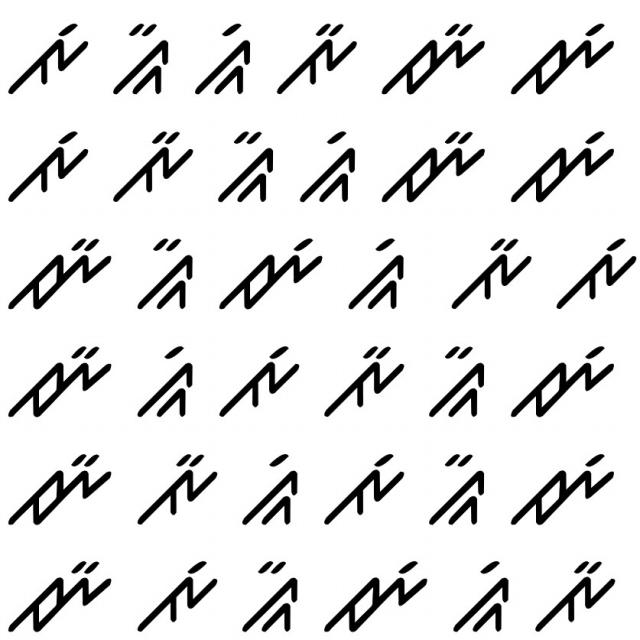an: (529, 554, 623, 638), (439, 226, 534, 308), (274, 17, 364, 100), (112, 122, 198, 206), (131, 450, 218, 533), (318, 340, 407, 418)
ang: (7, 17, 94, 104), (3, 116, 91, 200), (549, 233, 637, 317), (215, 340, 306, 421), (316, 447, 406, 528), (137, 554, 222, 636)
nggan: (135, 225, 198, 319), (236, 556, 305, 639), (421, 340, 488, 424), (213, 124, 277, 209), (112, 18, 176, 99), (429, 451, 489, 533)
nggang: (333, 234, 413, 318), (185, 15, 256, 96), (292, 126, 357, 210), (240, 449, 305, 533), (133, 340, 199, 422), (450, 556, 514, 637)
njan: (0, 334, 112, 424), (3, 225, 112, 316), (378, 14, 490, 101), (379, 122, 486, 208), (5, 552, 114, 634), (7, 451, 113, 533)
njang: (509, 340, 621, 433), (210, 222, 324, 312), (498, 125, 617, 208), (320, 550, 434, 636), (506, 444, 616, 530), (509, 13, 617, 94)
